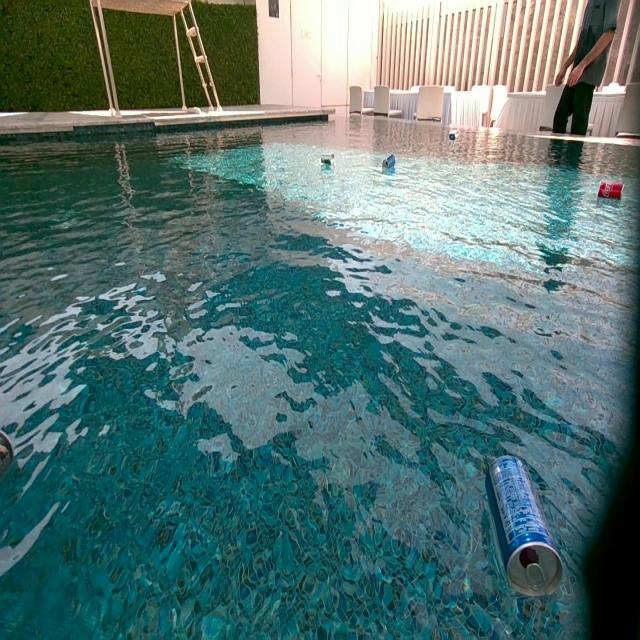Cans: (481, 452, 564, 596), (0, 394, 14, 486), (598, 181, 622, 199), (382, 156, 397, 171), (319, 152, 334, 166), (446, 131, 457, 142)
